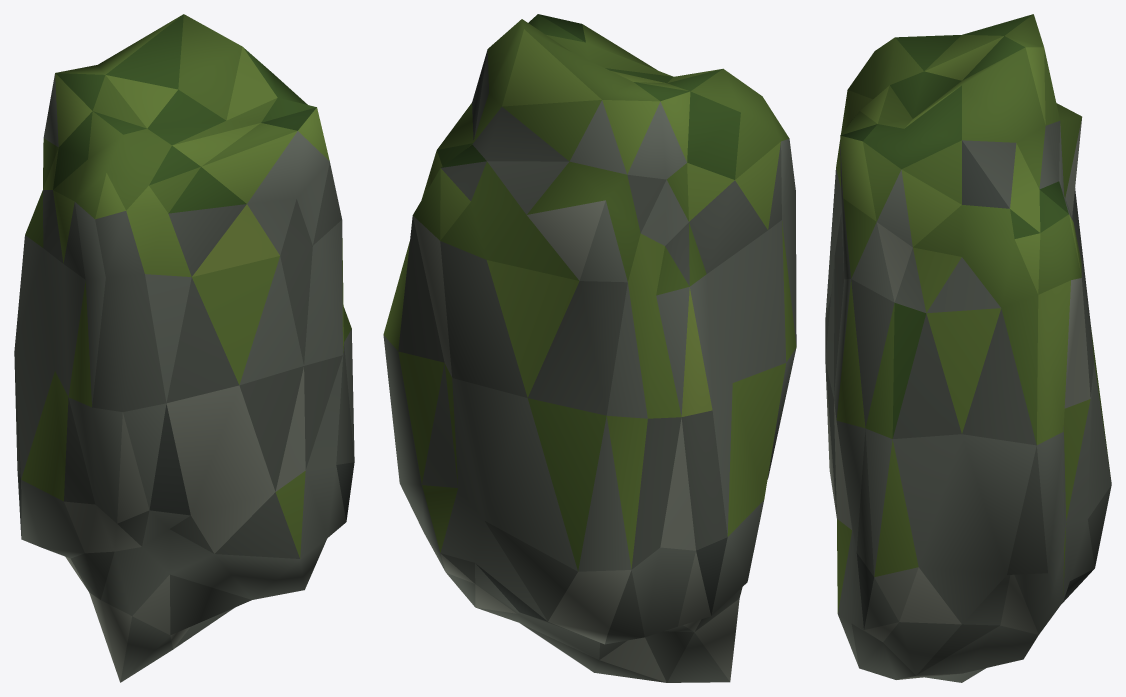
Rendered from forest-rock-3.glb.
3 renders of one model, left to right at view 1: azimuth 30°, elevation 25°; view 2: azimuth 150°, elevation 25°; view 3: azimuth 270°, elevation 25°, orthographic. The views are drawn at different scales.
Parts seen in each view (by area): view 1: forest-rock-3/0; view 2: forest-rock-3/0; view 3: forest-rock-3/0.
Boxes of the visible parts, left/top/right/bottom form: forest-rock-3/0: left=14, top=14, right=354, bottom=682; forest-rock-3/0: left=383, top=14, right=796, bottom=682; forest-rock-3/0: left=825, top=14, right=1111, bottom=682.
Bounding box in the file's own units: 2.49 × 4.8 × 1.88.
